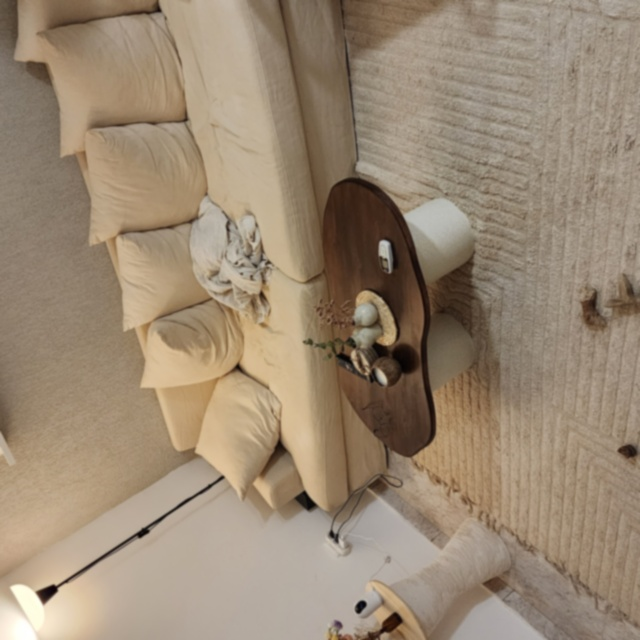glasses: (360, 400, 400, 441)
